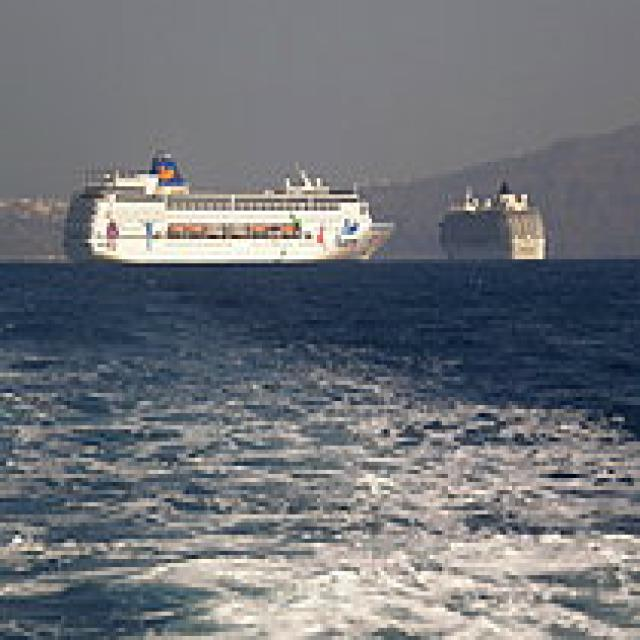Cruise: (55, 142, 396, 267), (432, 174, 546, 259)
